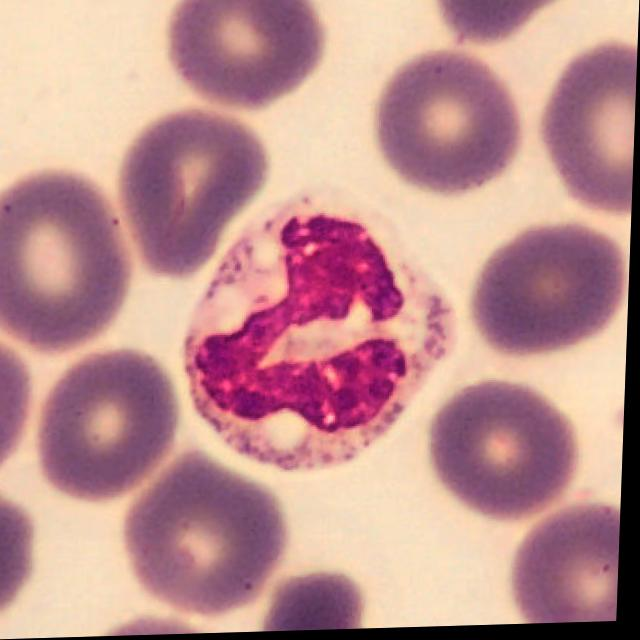Neutrofilo segmentado: (186, 196, 460, 477)
